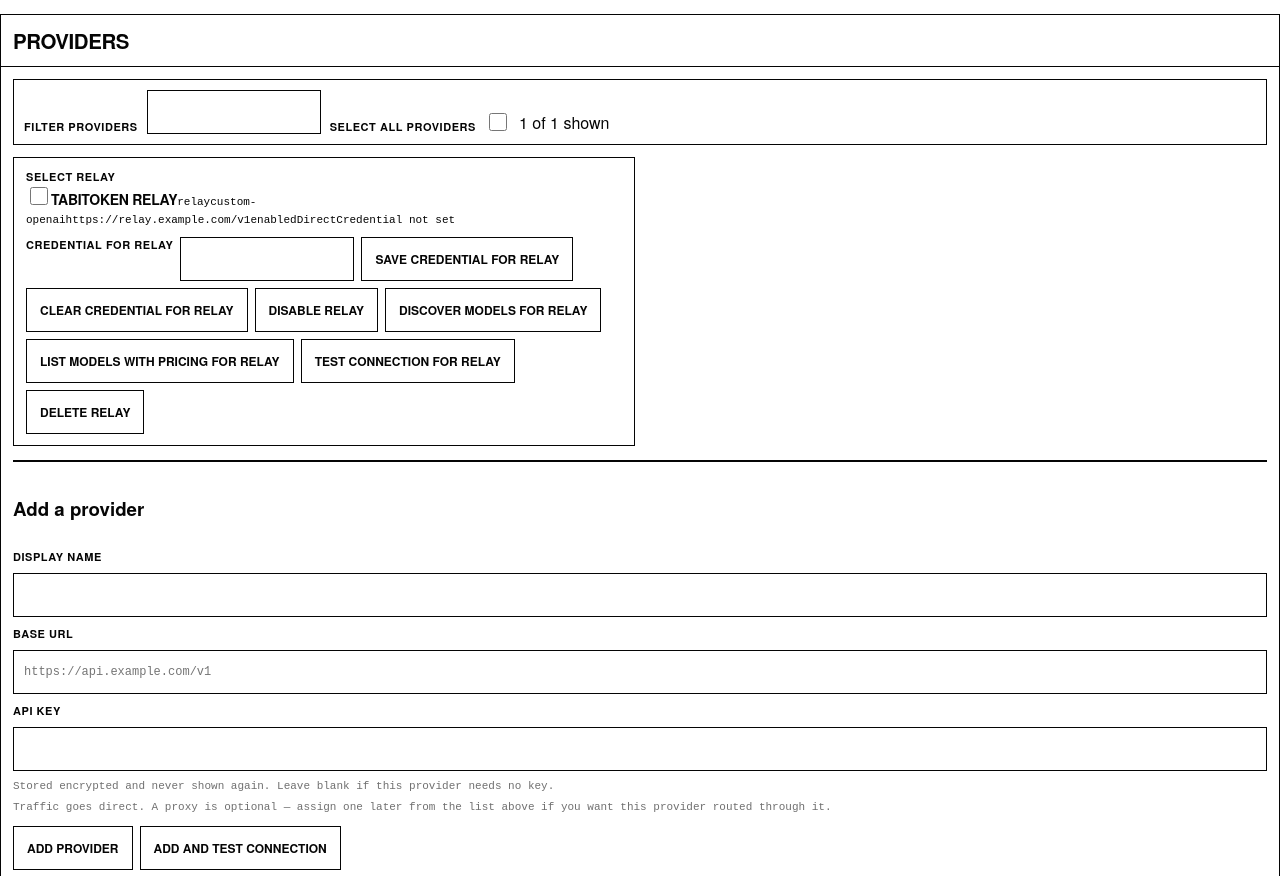
Scenario: test connection › shows latency and the model count on success
Check: the text "Tabitoken Relay" is shown, box [51, 189, 177, 209]
Click the button "Test connection for relay" at (408, 361), box [301, 339, 515, 383]
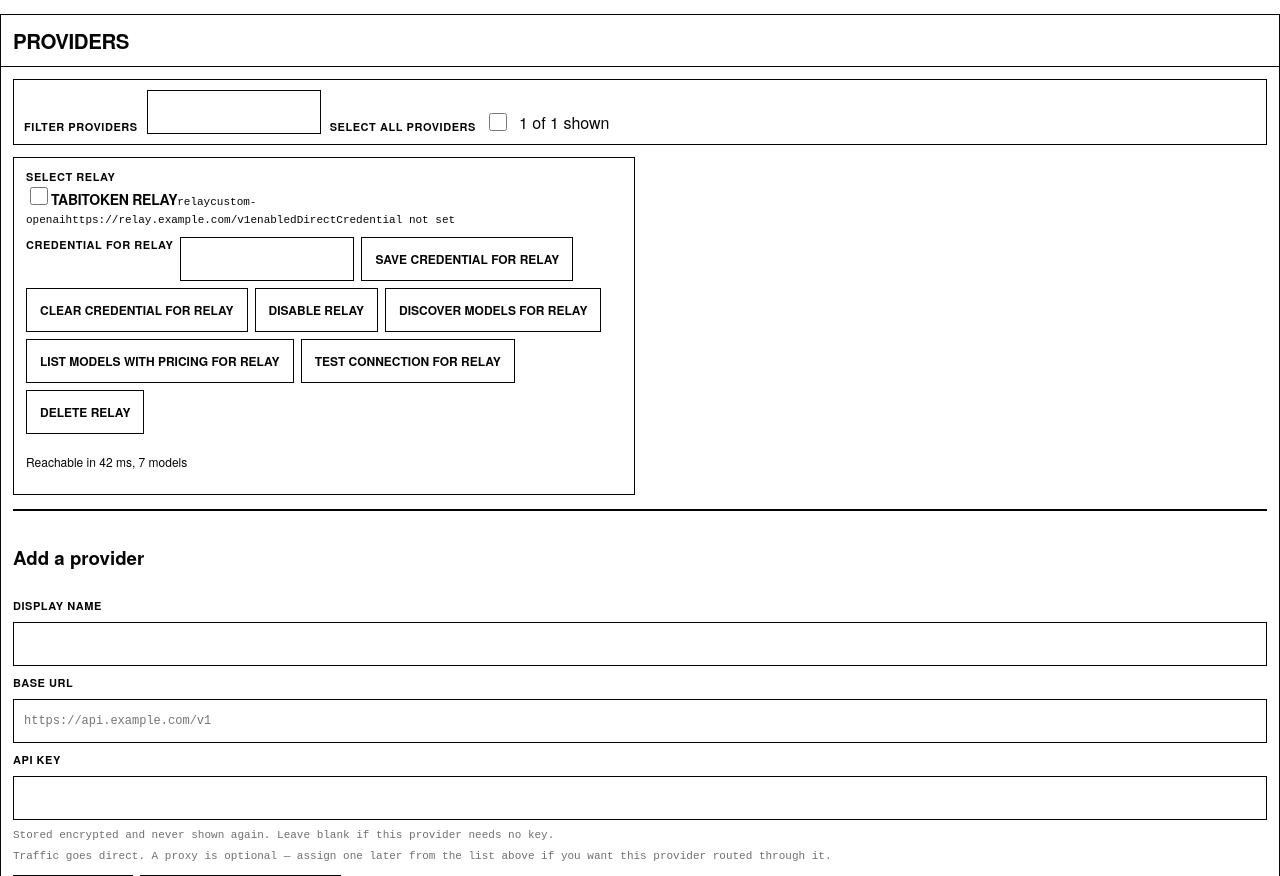
Check: the text with test id "test-result-relay" shows "42", box [26, 453, 187, 470]
Check: the text with test id "test-result-relay" shows "7", box [26, 453, 187, 470]
